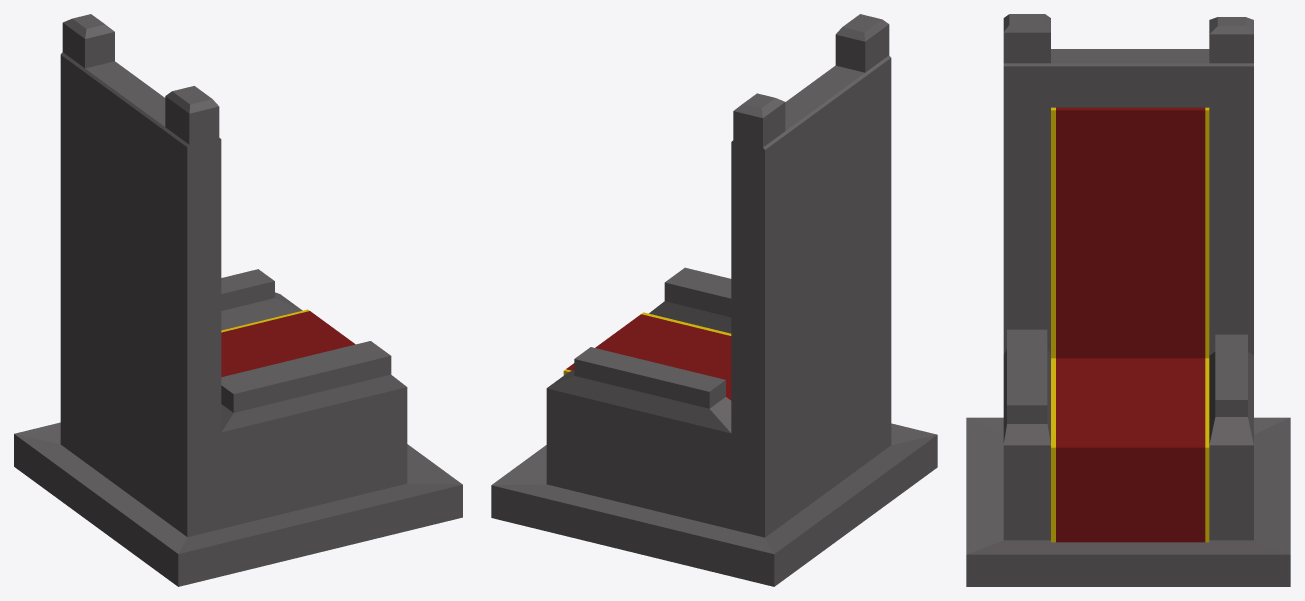
Rendered from kamstul2.fbx.
The picture shows the model from 3 angles, left to right: view 1: azimuth 30°, elevation 25°; view 2: azimuth 150°, elevation 25°; view 3: azimuth 270°, elevation 25°; orthographic projection.
Parts seen in each view (by area): view 1: Cube; view 2: Cube; view 3: Cube.
Boxes of the visible parts, <box> form: Cube: <box>14,14,462,586</box>; Cube: <box>491,14,937,586</box>; Cube: <box>966,14,1290,586</box>.
Size of the model in its own units: 259 by 399 by 259.
